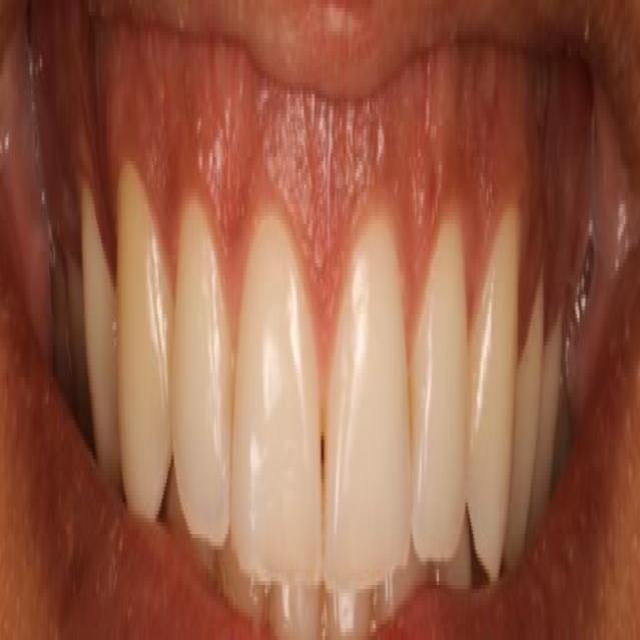1st Premolar: (79, 185, 119, 471), (508, 279, 546, 559)
2nd Premolar: (533, 320, 565, 504), (69, 255, 88, 426)
Canine: (465, 204, 520, 581), (117, 161, 172, 526)
Central Incisor: (322, 199, 412, 593), (233, 202, 322, 593)
Lateral Incisor: (171, 192, 233, 550), (408, 212, 467, 561)
